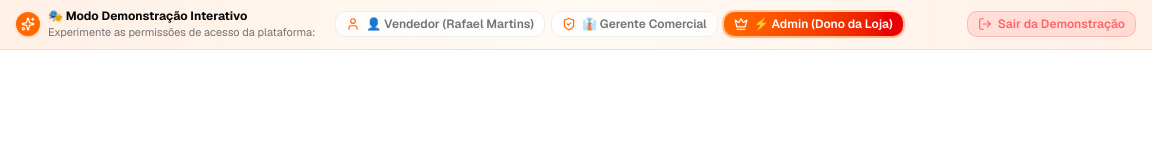
Test: [IT-16] Controle de Acesso RBAC e Simulador de Papéis na Demonstração › [IT-16.7] Deve validar responsividade e fechamento de notificação de perfil
// Act 1 (Alterna para Gerente gerando notificação)
Step 1. Click the button "👔 Gerente Comercial" → (634, 24), box [551,11,718,37]
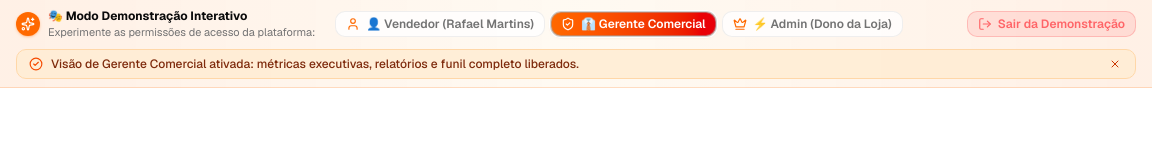
Check: the text "Visão de Gerente Comercial ativada" is shown, box [51,56,579,72]
// Act 2 (Fecha notificação)
Step 2. Click the button named "fechar notificação" → (1115, 64), box [1107,56,1123,72]
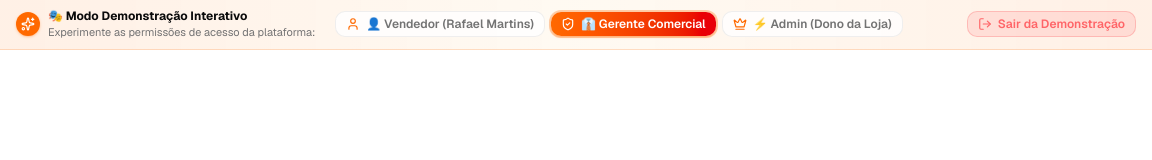
Check: the text "Visão de Gerente Comercial ativada" is gone
